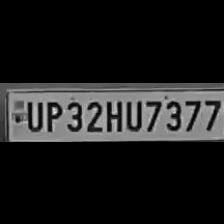2: (84, 98, 102, 132)
3: (162, 97, 182, 131), (64, 96, 82, 132)
7: (201, 97, 221, 131), (142, 96, 160, 132), (182, 97, 200, 131)
H: (103, 97, 123, 131)
P: (44, 97, 62, 133)
U: (23, 97, 41, 131), (124, 96, 142, 130)
